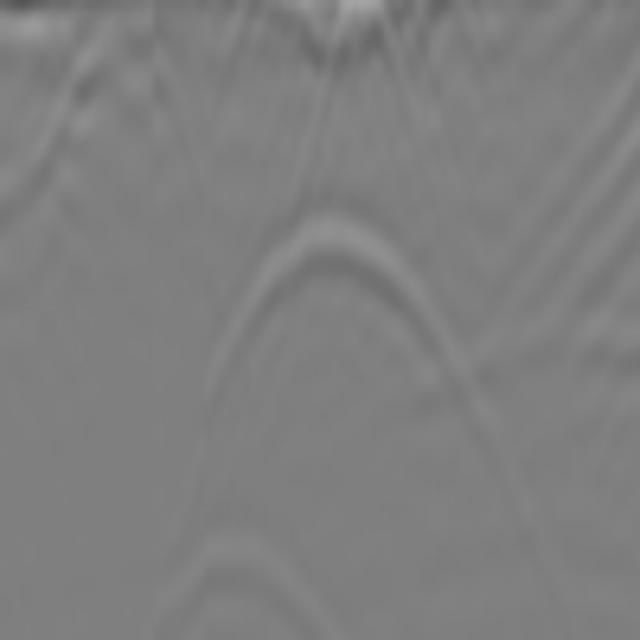hyperbola: (199, 199, 463, 393)
